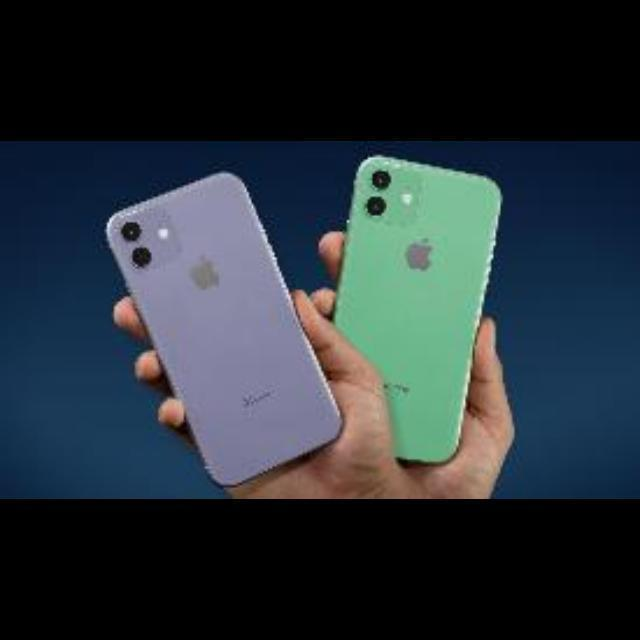phone: (83, 159, 349, 493), (331, 144, 505, 482)
